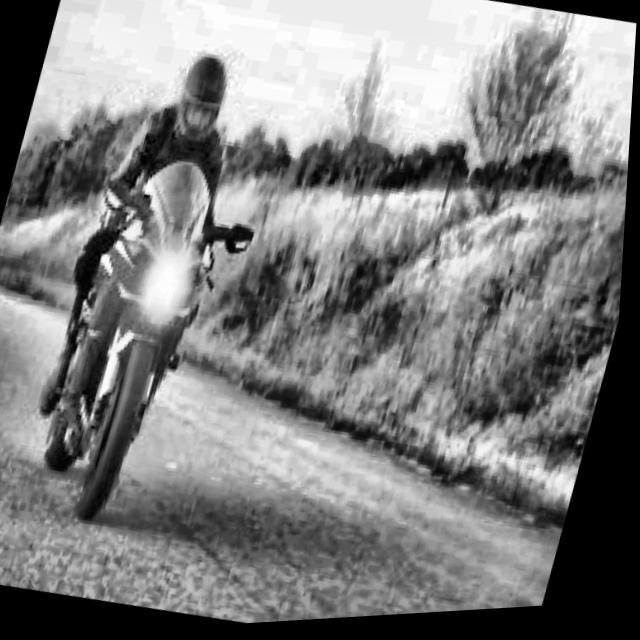motorcycle: (0, 128, 293, 560)
